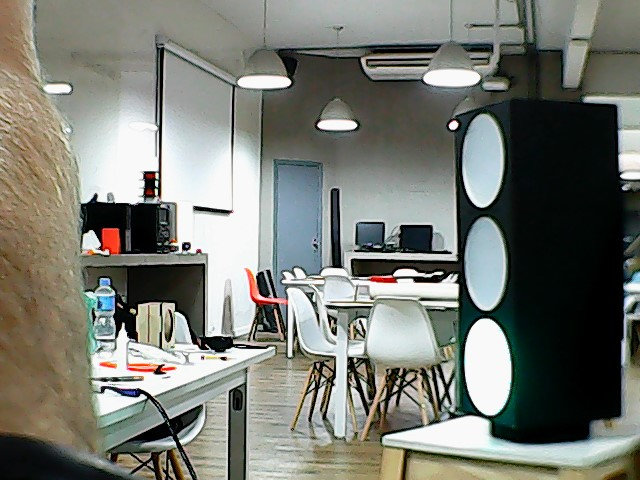verde: (448, 102, 628, 423)
